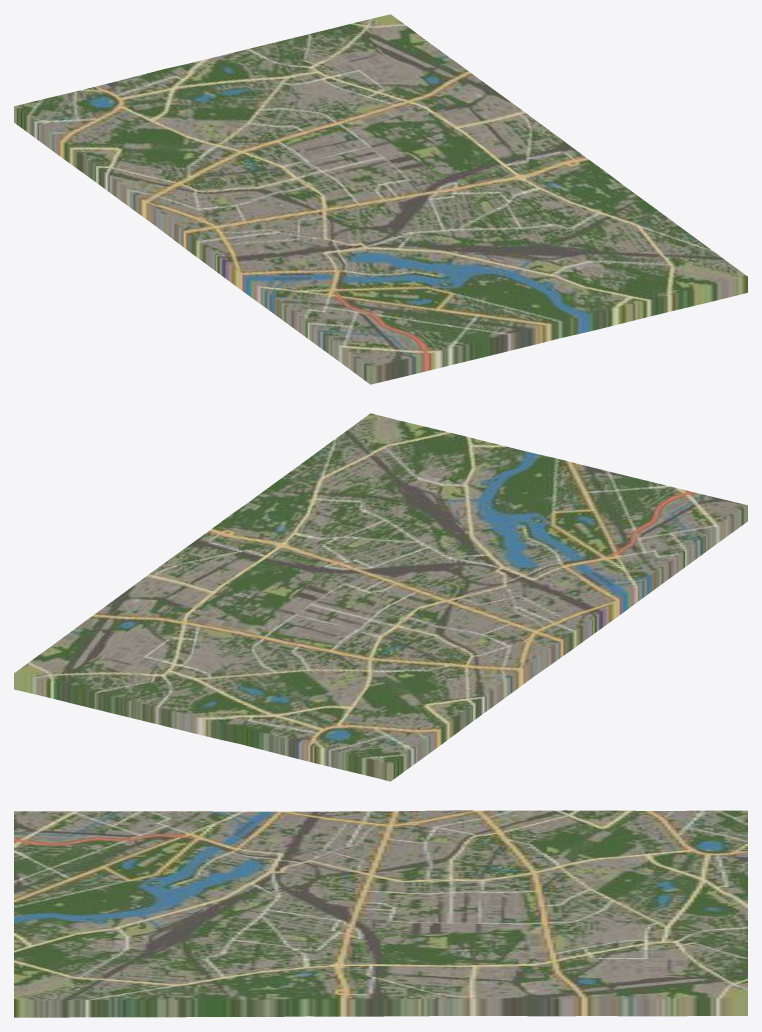
3 renders of one model, top to bottom at view 1: azimuth 30°, elevation 25°; view 2: azimuth 150°, elevation 25°; view 3: azimuth 270°, elevation 25°, orthographic. The views are drawn at different scales.
Size of the model in its own units: 5973 by 275 by 9781.
Materials: 1 (1 with a texture image).
